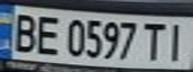0: (63, 16, 87, 57)
5: (81, 17, 103, 60)
7: (118, 18, 142, 61)
9: (100, 18, 121, 61)
B: (6, 9, 42, 54)
E: (30, 11, 63, 56)
I: (160, 19, 193, 63)
T: (139, 19, 169, 62)
